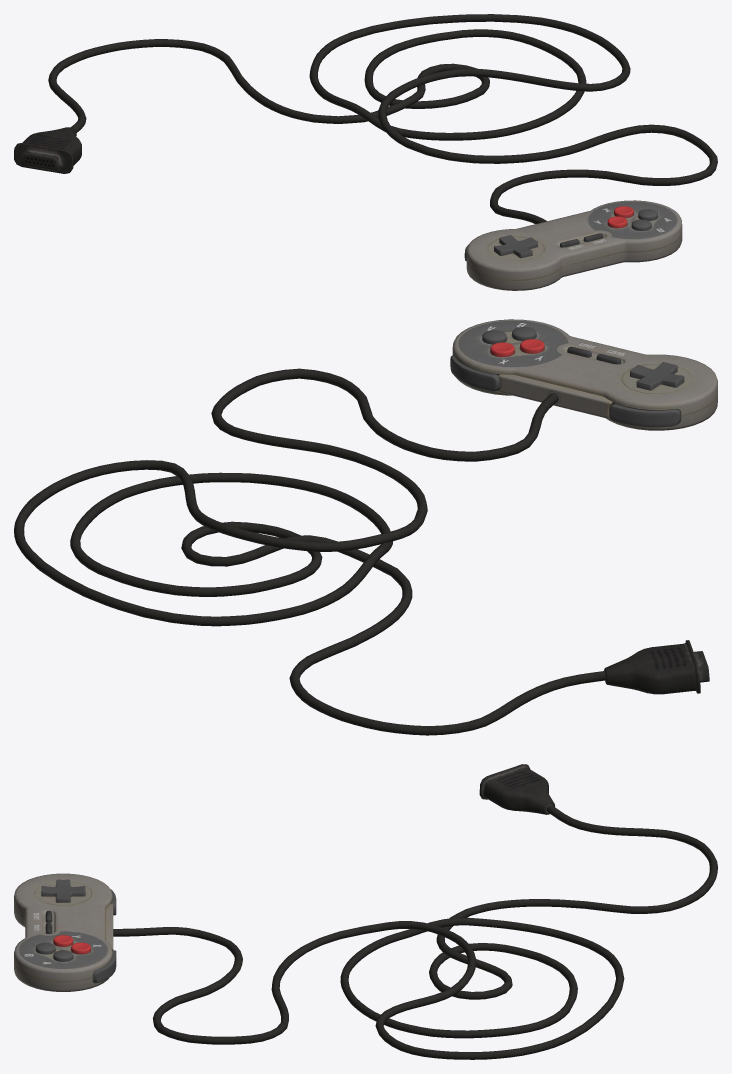
3 renders of one model, top to bottom at view 1: azimuth 30°, elevation 25°; view 2: azimuth 150°, elevation 25°; view 3: azimuth 270°, elevation 25°, orthographic. The views are drawn at different scales.
Visible parts, largest first — view 1: gamepad; view 2: gamepad; view 3: gamepad.
Boxes of the visible parts, left/top/right/bottom form: gamepad: left=14, top=14, right=717, bottom=290; gamepad: left=14, top=319, right=717, bottom=735; gamepad: left=14, top=764, right=717, bottom=1059.
Size of the model in its own units: 0.4041 by 0.0189 by 0.435.
Materials: 1 (1 with a texture image).
